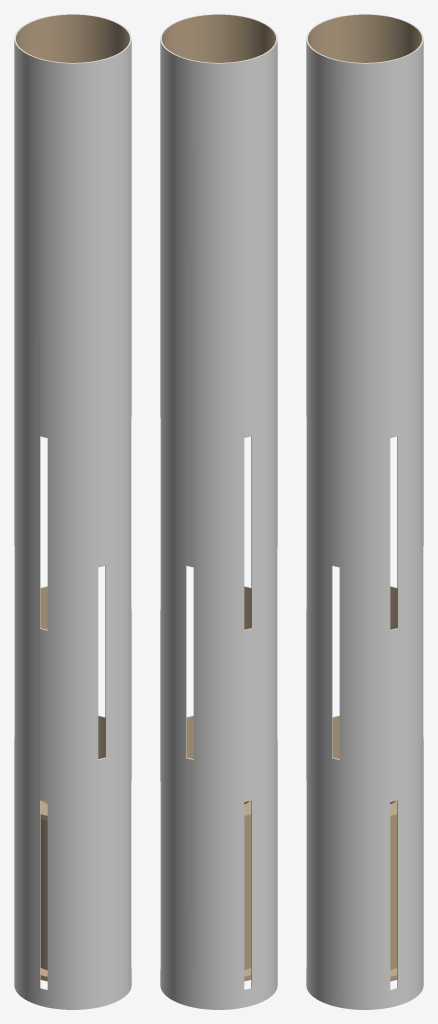
Rendered from BodyTube.fbx.
3 renders of one model, left to right at view 1: azimuth 90°, elevation 25°; view 2: azimuth 150°, elevation 25°; view 3: azimuth 270°, elevation 25°, orthographic.
Visible parts, largest first — view 1: BodyTube; view 2: BodyTube; view 3: BodyTube.
Part boxes in pixels (left/top/right/bottom): BodyTube: left=14, top=14, right=131, bottom=1009; BodyTube: left=160, top=14, right=277, bottom=1009; BodyTube: left=306, top=14, right=423, bottom=1009.
Bounding box in the file's own units: 0.0337 × 0.3 × 0.0337.
